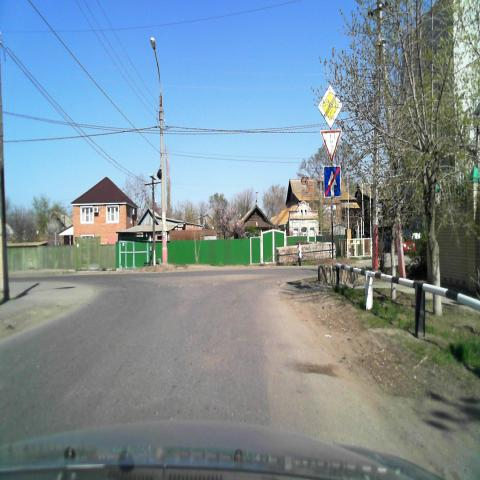2_2: (318, 85, 343, 128)
